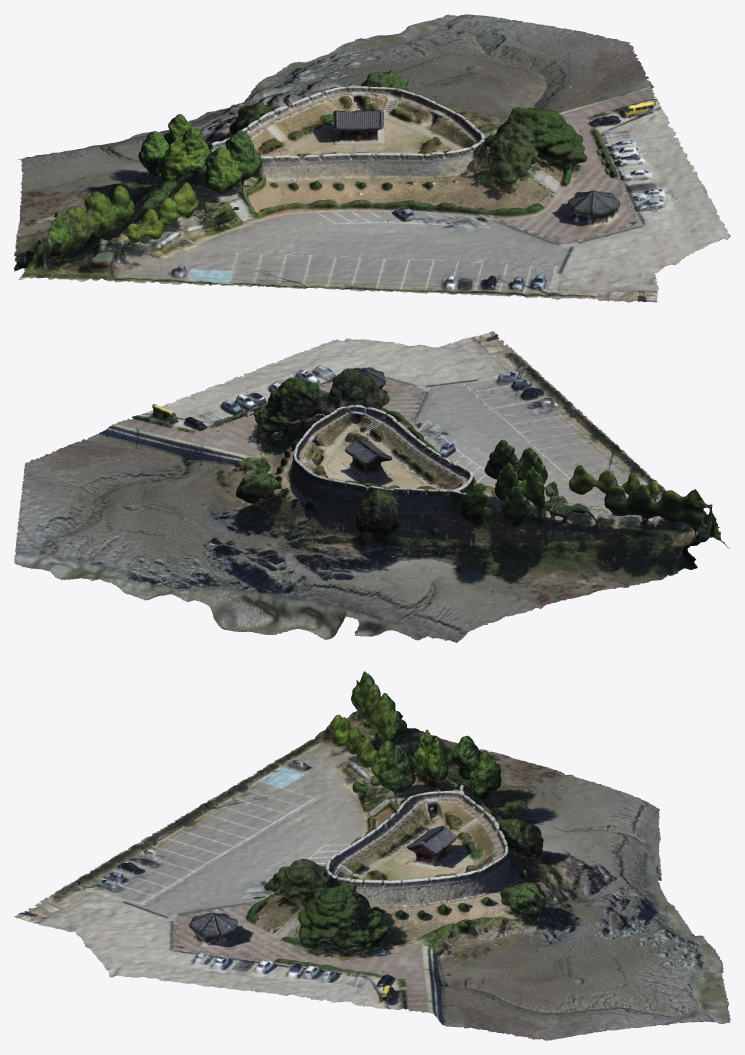
The model's file is chojijin.glb.
3 renders of one model, top to bottom at view 1: azimuth 30°, elevation 25°; view 2: azimuth 150°, elevation 25°; view 3: azimuth 270°, elevation 25°, orthographic. The views are drawn at different scales.
Visible parts, largest first — view 1: Stereo textured mesh, Stereo textured mesh_Material0_0.001, Stereo textured mesh_Material0_0.002; view 2: Stereo textured mesh, Stereo textured mesh_Material0_0.001, Stereo textured mesh_Material0_0.002; view 3: Stereo textured mesh, Stereo textured mesh_Material0_0.001, Stereo textured mesh_Material0_0.002.
Part boxes in pixels (left/top/right/bottom): Stereo textured mesh: left=14, top=18, right=730, bottom=302; Stereo textured mesh_Material0_0.001: left=14, top=14, right=595, bottom=296; Stereo textured mesh_Material0_0.002: left=14, top=14, right=608, bottom=298; Stereo textured mesh: left=18, top=331, right=723, bottom=640; Stereo textured mesh_Material0_0.001: left=14, top=367, right=728, bottom=641; Stereo textured mesh_Material0_0.002: left=14, top=368, right=730, bottom=642; Stereo textured mesh: left=14, top=675, right=729, bottom=1040; Stereo textured mesh_Material0_0.001: left=77, top=673, right=730, bottom=1032; Stereo textured mesh_Material0_0.002: left=79, top=671, right=730, bottom=1033.
Bounding box in the file's own units: 137 × 26.09 × 127.
1 material, 1 textured.
